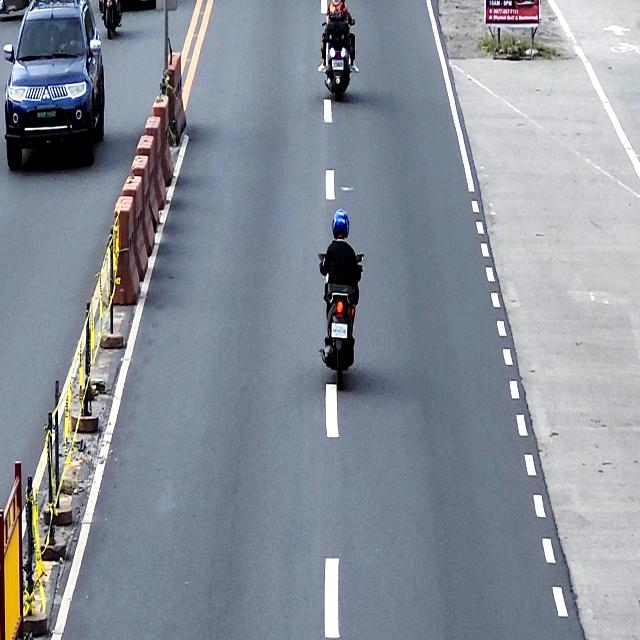Car: (3, 0, 105, 171)
License-Plate: (331, 322, 348, 339), (331, 59, 344, 71)
Motorcycle: (317, 252, 363, 389), (320, 14, 358, 101)
